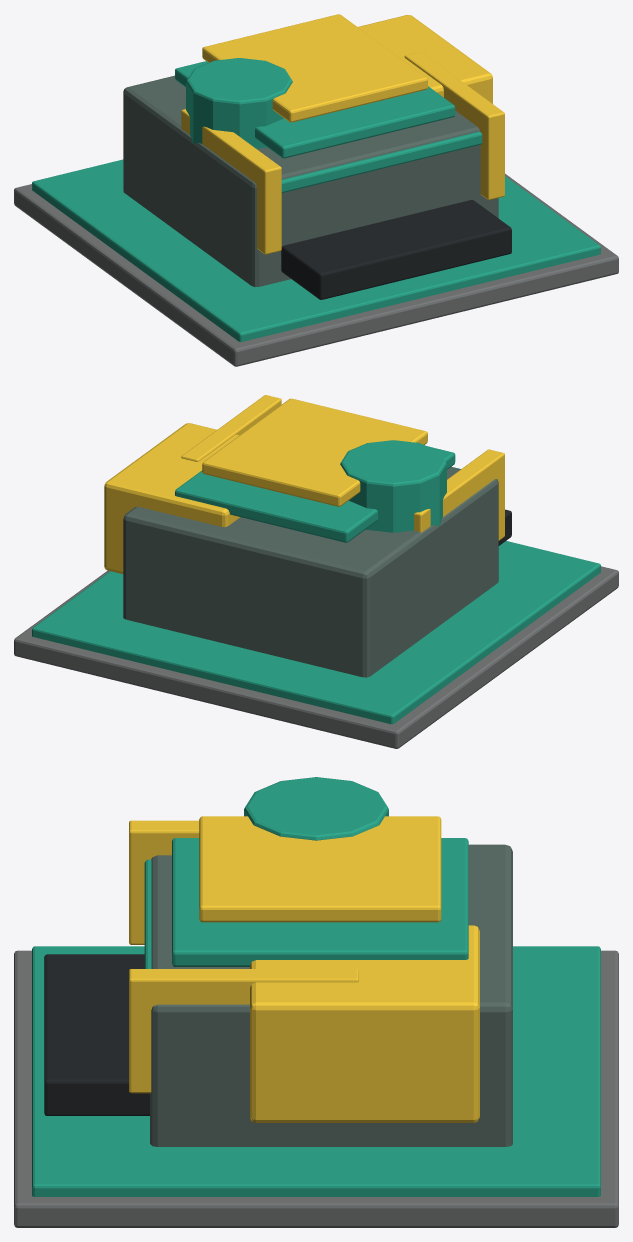
The model's file is SM_Coalition_CO_Refinery.fbx.
3 views of the same model, one above another, from view 1: azimuth 30°, elevation 25°; view 2: azimuth 150°, elevation 25°; view 3: azimuth 270°, elevation 25° (orthographic). The views are drawn at different scales.
Parts seen in each view (by area): view 1: SM_Coalition_CO_Refinery_MainMass, SM_Coalition_CO_Refinery_FoundationTrim, SM_Coalition_CO_Refinery, SM_Coalition_CO_Refinery_Conveyor, SM_Coalition_CO_Refinery_Roof_2, SM_Coalition_CO_Refinery_Processor, SM_Coalition_CO_Refinery_Roof_1, SM_Coalition_CO_Refinery_Fin_-1, SM_Coalition_CO_Refinery_OreHopper, SM_Coalition_CO_Refinery_Fin_+1, SM_Coalition_CO_Refinery_Roof_0; view 2: SM_Coalition_CO_Refinery_MainMass, SM_Coalition_CO_Refinery_FoundationTrim, SM_Coalition_CO_Refinery, SM_Coalition_CO_Refinery_Roof_2, SM_Coalition_CO_Refinery_OreHopper, SM_Coalition_CO_Refinery_Processor, SM_Coalition_CO_Refinery_Roof_1, SM_Coalition_CO_Refinery_Fin_-1, SM_Coalition_CO_Refinery_Fin_+1; view 3: SM_Coalition_CO_Refinery_FoundationTrim, SM_Coalition_CO_Refinery_OreHopper, SM_Coalition_CO_Refinery_MainMass, SM_Coalition_CO_Refinery, SM_Coalition_CO_Refinery_Roof_2, SM_Coalition_CO_Refinery_Roof_1, SM_Coalition_CO_Refinery_Conveyor, SM_Coalition_CO_Refinery_Fin_+1, SM_Coalition_CO_Refinery_Processor, SM_Coalition_CO_Refinery_Fin_-1, SM_Coalition_CO_Refinery_Roof_0.
Boxes of the visible parts, x1=… form: SM_Coalition_CO_Refinery_MainMass: x1=123, y1=75, x2=498, y2=287; SM_Coalition_CO_Refinery_FoundationTrim: x1=32, y1=159, x2=600, y2=341; SM_Coalition_CO_Refinery: x1=14, y1=173, x2=618, y2=366; SM_Coalition_CO_Refinery_Conveyor: x1=281, y1=199, x2=511, y2=299; SM_Coalition_CO_Refinery_Roof_2: x1=202, y1=14, x2=427, y2=122; SM_Coalition_CO_Refinery_Processor: x1=186, y1=58, x2=292, y2=148; SM_Coalition_CO_Refinery_Roof_1: x1=175, y1=61, x2=455, y2=158; SM_Coalition_CO_Refinery_Fin_-1: x1=181, y1=109, x2=281, y2=254; SM_Coalition_CO_Refinery_OreHopper: x1=358, y1=15, x2=492, y2=103; SM_Coalition_CO_Refinery_Fin_+1: x1=404, y1=51, x2=504, y2=199; SM_Coalition_CO_Refinery_Roof_0: x1=281, y1=131, x2=482, y2=192; SM_Coalition_CO_Refinery_MainMass: x1=123, y1=467, x2=498, y2=677; SM_Coalition_CO_Refinery_FoundationTrim: x1=32, y1=541, x2=600, y2=724; SM_Coalition_CO_Refinery: x1=14, y1=566, x2=618, y2=748; SM_Coalition_CO_Refinery_Roof_2: x1=202, y1=398, x2=427, y2=506; SM_Coalition_CO_Refinery_OreHopper: x1=104, y1=423, x2=239, y2=573; SM_Coalition_CO_Refinery_Processor: x1=340, y1=440, x2=446, y2=532; SM_Coalition_CO_Refinery_Roof_1: x1=175, y1=446, x2=455, y2=542; SM_Coalition_CO_Refinery_Fin_-1: x1=414, y1=449, x2=504, y2=540; SM_Coalition_CO_Refinery_Fin_+1: x1=181, y1=395, x2=281, y2=461; SM_Coalition_CO_Refinery_FoundationTrim: x1=32, y1=946, x2=600, y2=1196; SM_Coalition_CO_Refinery_OreHopper: x1=250, y1=925, x2=479, y2=1122; SM_Coalition_CO_Refinery_MainMass: x1=150, y1=844, x2=512, y2=1146; SM_Coalition_CO_Refinery: x1=14, y1=950, x2=618, y2=1227; SM_Coalition_CO_Refinery_Roof_2: x1=199, y1=816, x2=441, y2=922; SM_Coalition_CO_Refinery_Roof_1: x1=172, y1=838, x2=468, y2=966; SM_Coalition_CO_Refinery_Conveyor: x1=44, y1=954, x2=149, y2=1115; SM_Coalition_CO_Refinery_Fin_+1: x1=129, y1=969, x2=358, y2=1093; SM_Coalition_CO_Refinery_Processor: x1=244, y1=777, x2=388, y2=840; SM_Coalition_CO_Refinery_Fin_-1: x1=129, y1=820, x2=199, y2=944; SM_Coalition_CO_Refinery_Roof_0: x1=144, y1=859, x2=151, y2=968.
Size of what is drawn, in the model's own units: 800 by 800 by 356.
